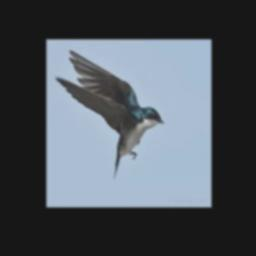Swallow: (55, 49, 163, 179)
